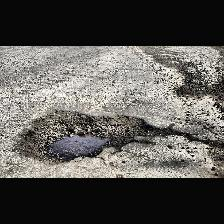pothole: (20, 109, 168, 165)
